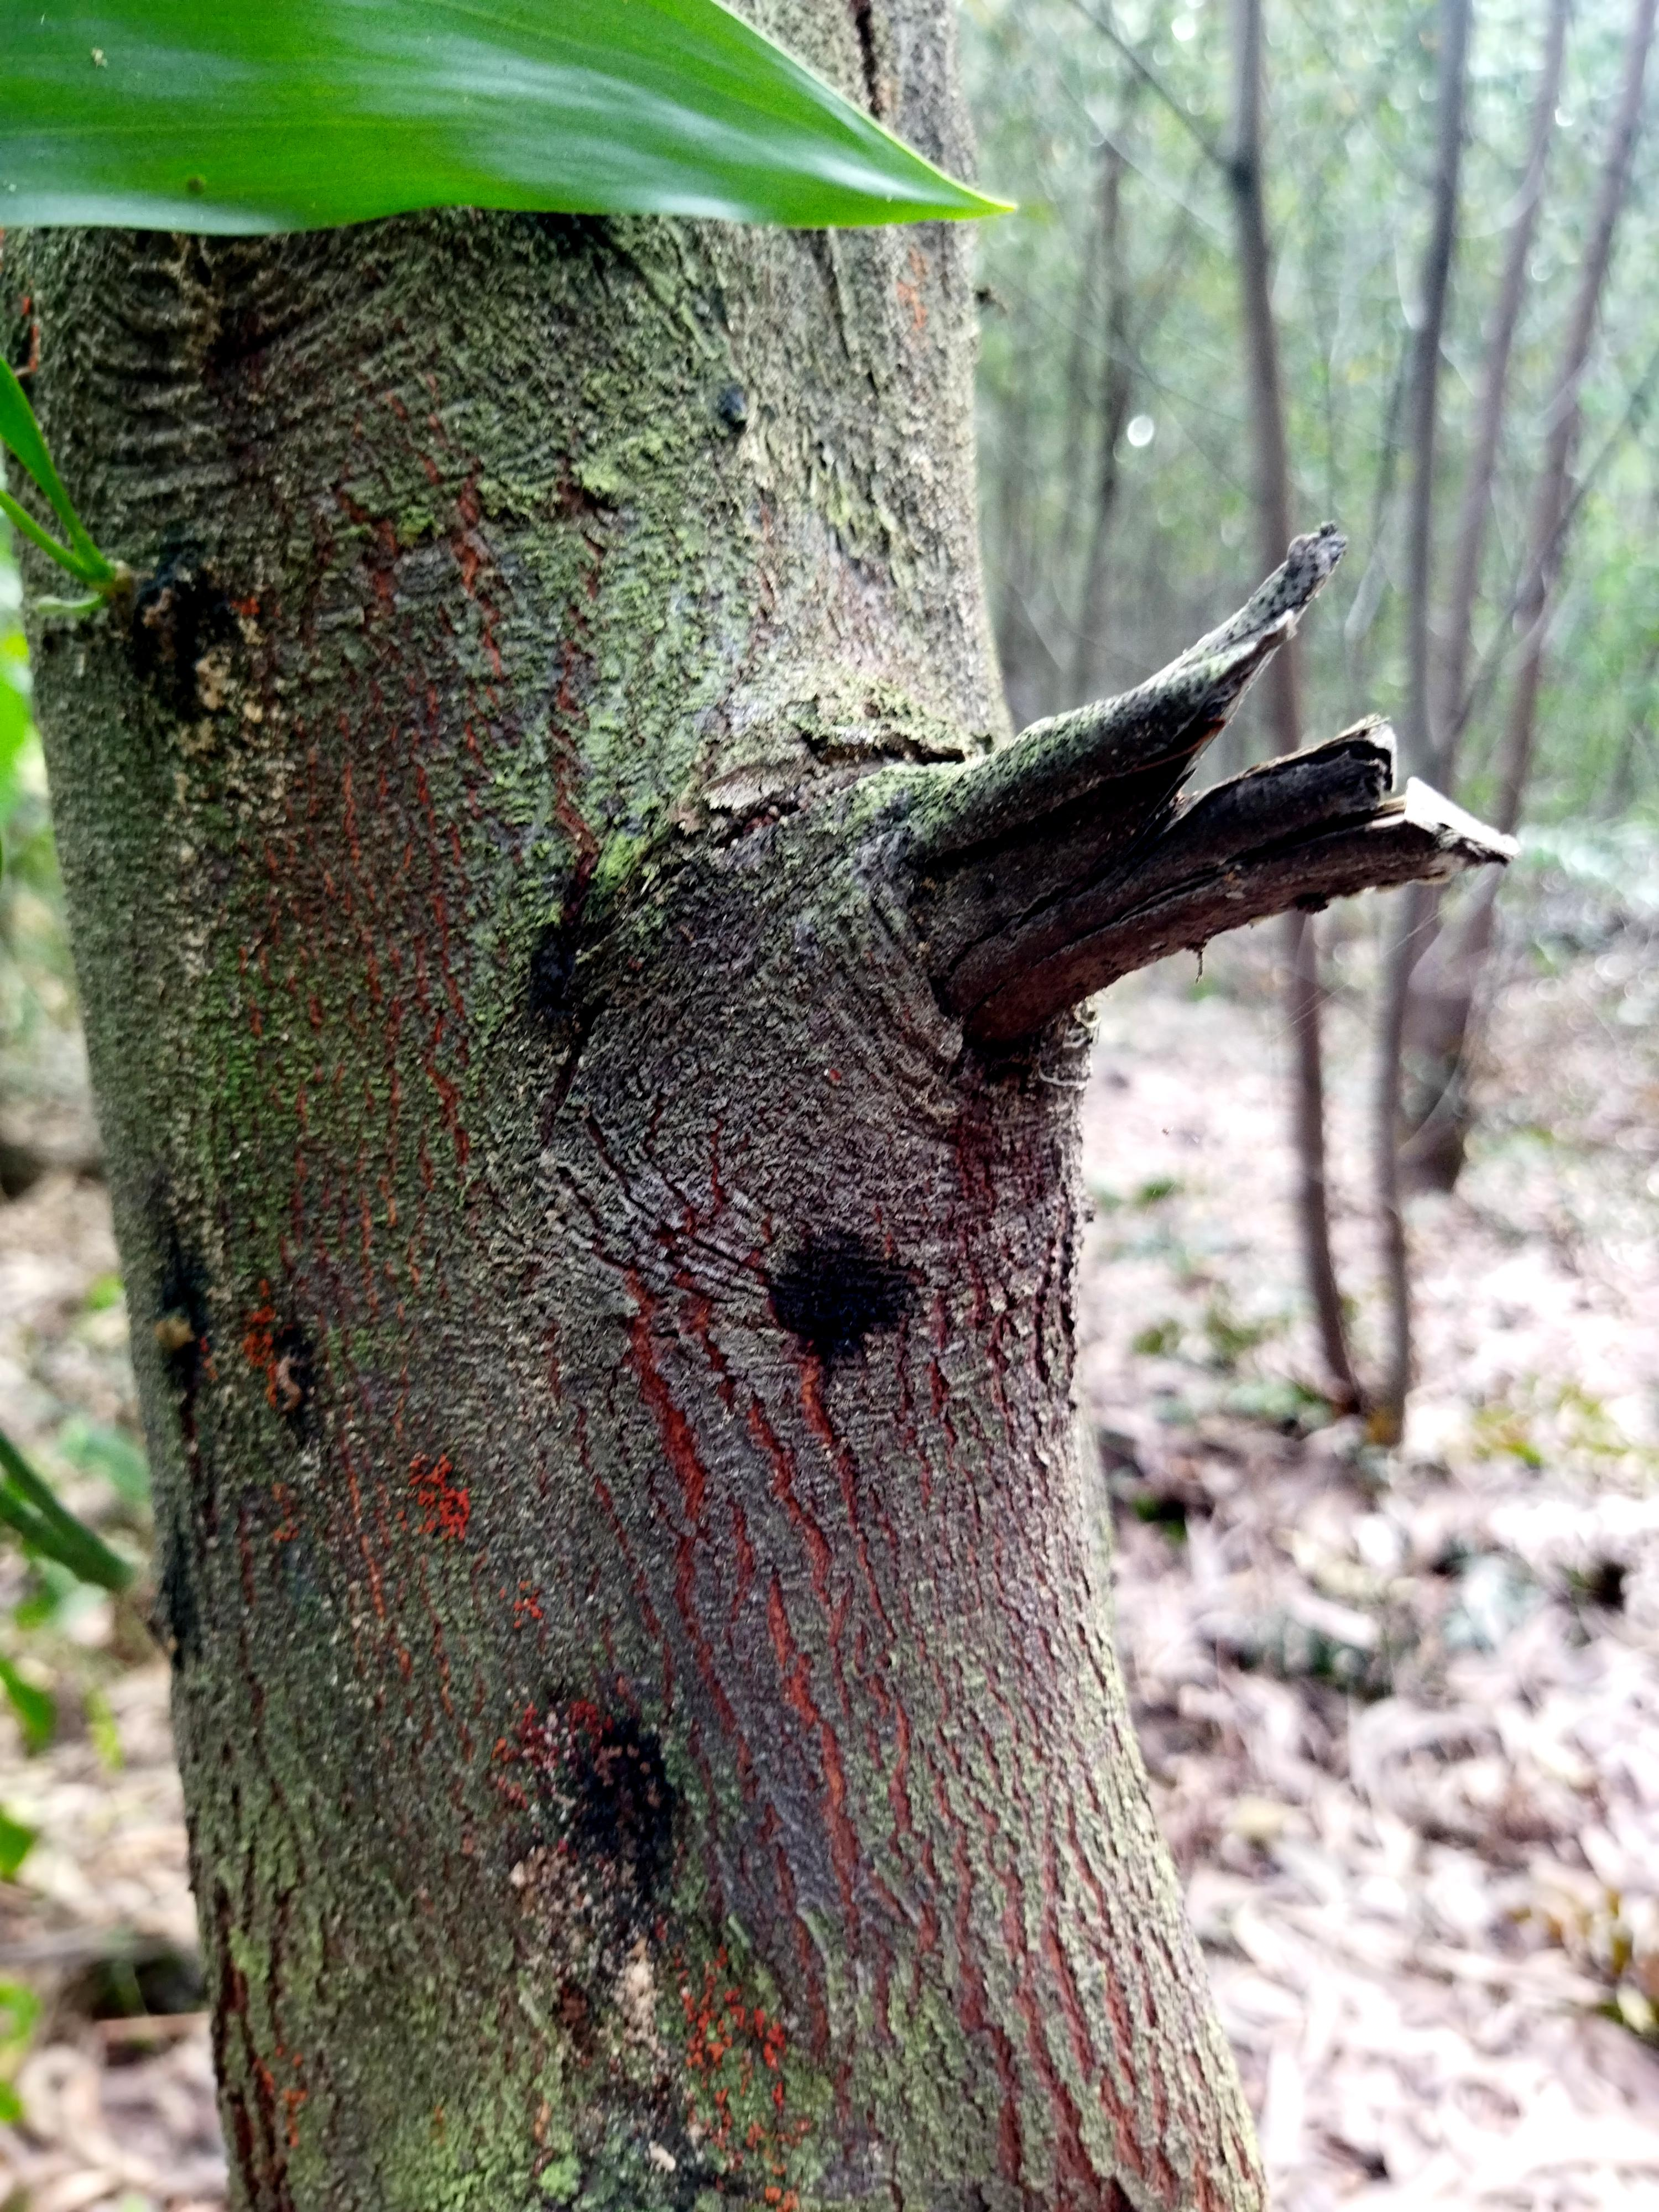Stem Borer: (84, 505, 342, 813), (493, 1710, 735, 1979), (437, 930, 701, 1146), (206, 1317, 439, 1531), (748, 1228, 948, 1420)
